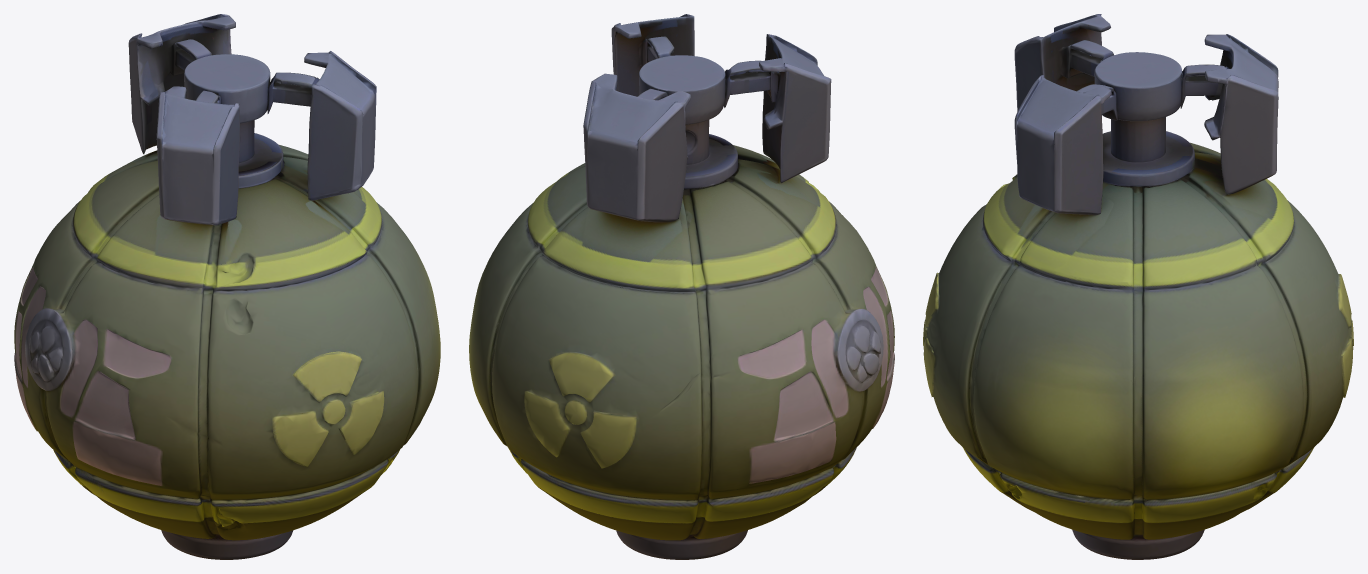
Rendered from nuclear_bomb_3d_model.fbx.
3 views of the same model, side by side, from view 1: azimuth 30°, elevation 25°; view 2: azimuth 150°, elevation 25°; view 3: azimuth 270°, elevation 25° (orthographic).
Parts seen in each view (by area): view 1: tripo_node_4d28fc3b; view 2: tripo_node_4d28fc3b; view 3: tripo_node_4d28fc3b.
Boxes of the visible parts, box(x1,y1,x2,y2) form: tripo_node_4d28fc3b: box(14, 14, 440, 559); tripo_node_4d28fc3b: box(469, 14, 894, 559); tripo_node_4d28fc3b: box(923, 14, 1353, 559).
Bounding box in the file's own units: 0.802 × 0.9812 × 0.7985.
